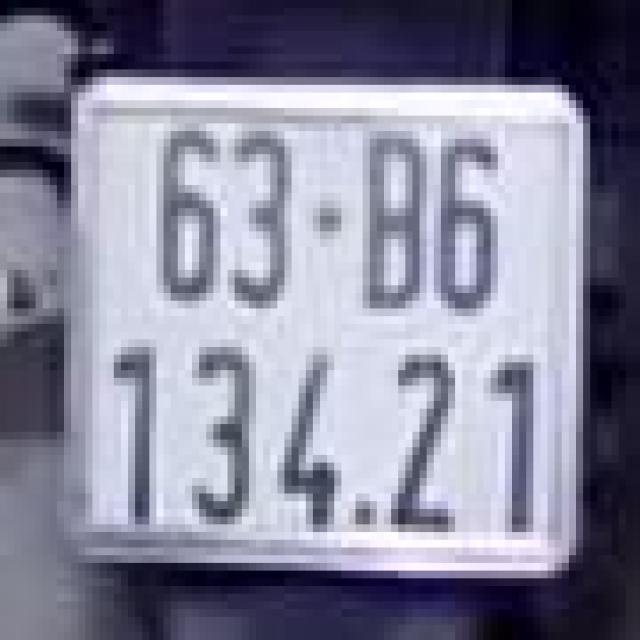1: (484, 328, 554, 559), (106, 339, 164, 532)
2: (391, 324, 462, 547)
3: (185, 332, 270, 532), (234, 124, 292, 316)
4: (274, 335, 345, 536)
6: (142, 108, 228, 316), (438, 128, 516, 312)
B: (355, 108, 441, 324)
